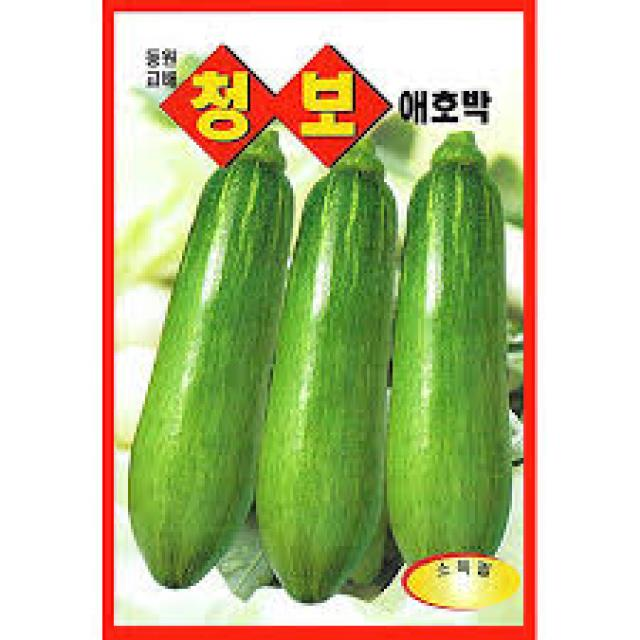yogurt: (128, 131, 293, 590), (260, 139, 399, 604), (390, 130, 512, 561)
